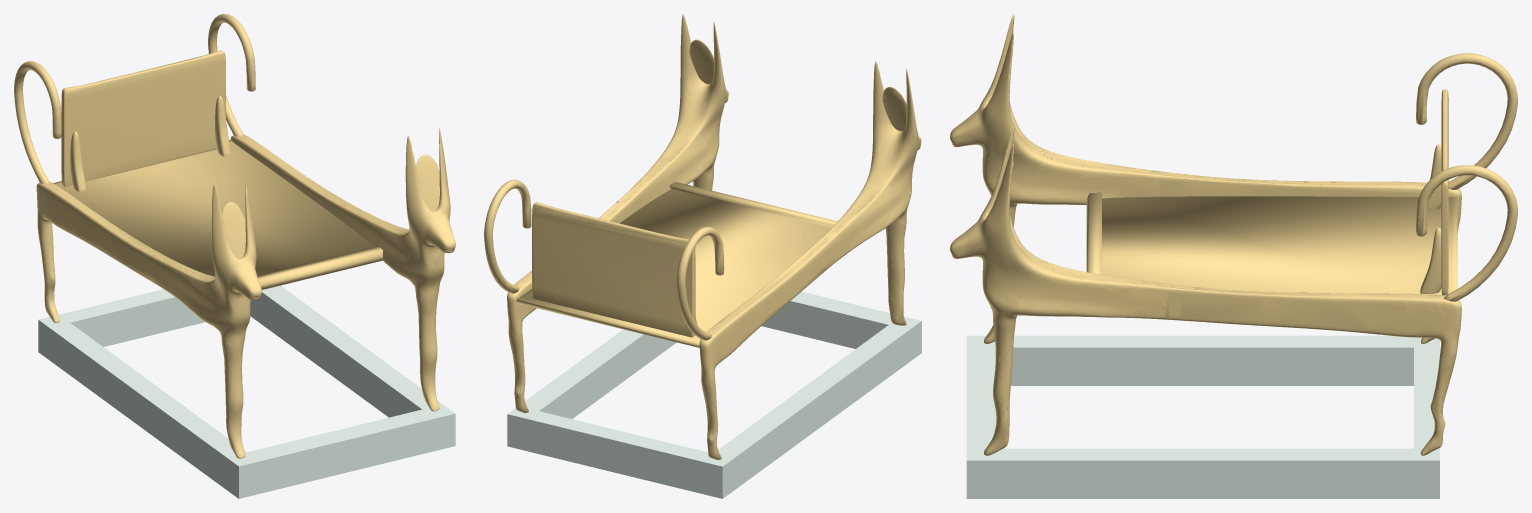
The model's file is funerary-bed.glb.
3 views of the same model, side by side, from view 1: azimuth 30°, elevation 25°; view 2: azimuth 150°, elevation 25°; view 3: azimuth 270°, elevation 25° (orthographic). The views are drawn at different scales.
Visible parts, largest first — view 1: Cube.006, Cube; view 2: Cube.006, Cube; view 3: Cube.006, Cube.
Boxes of the visible parts, x1=… form: Cube.006: x1=14, y1=14, x2=455, y2=458; Cube: x1=38, y1=285, x2=455, y2=498; Cube.006: x1=484, y1=14, x2=921, y2=460; Cube: x1=507, y1=291, x2=921, y2=498; Cube.006: x1=950, y1=14, x2=1517, y2=455; Cube: x1=966, y1=335, x2=1439, y2=498.
Size of the model in its own units: 5.1 by 6.26 by 9.01.
2 materials, 1 textured.
